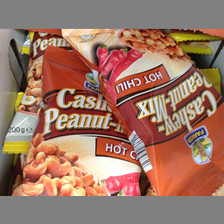nuts: (61, 29, 224, 196), (12, 47, 143, 195)
